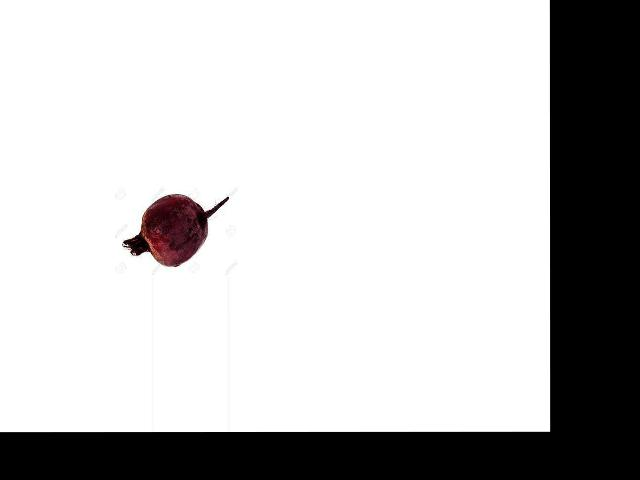beet: (122, 194, 227, 265)
